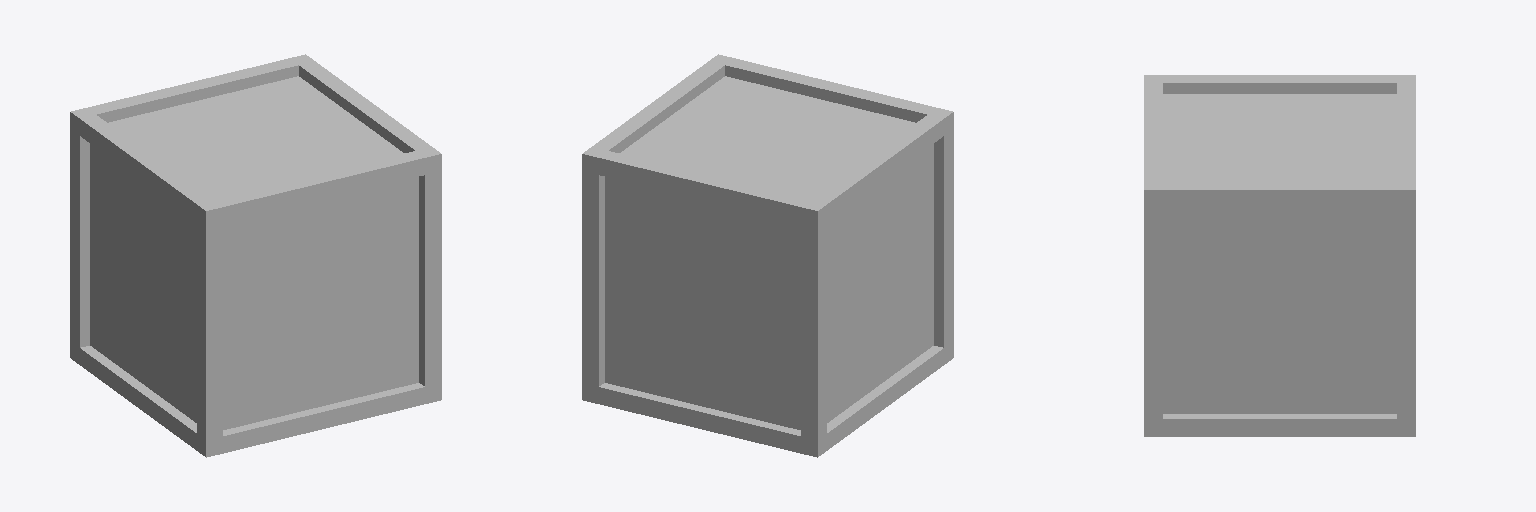
Rendered from wooden_cube.obj.
3 views of the same model, side by side, from view 1: azimuth 30°, elevation 25°; view 2: azimuth 150°, elevation 25°; view 3: azimuth 270°, elevation 25° (orthographic).
Parts seen in each view (by area): view 1: Cube.626_Cube.030; view 2: Cube.626_Cube.030; view 3: Cube.626_Cube.030.
Boxes of the visible parts, <box> form: Cube.626_Cube.030: <box>70,54,441,457</box>; Cube.626_Cube.030: <box>582,54,953,457</box>; Cube.626_Cube.030: <box>1144,75,1415,436</box>.
Size of the model in its own units: 0.8151 by 0.815 by 0.815.